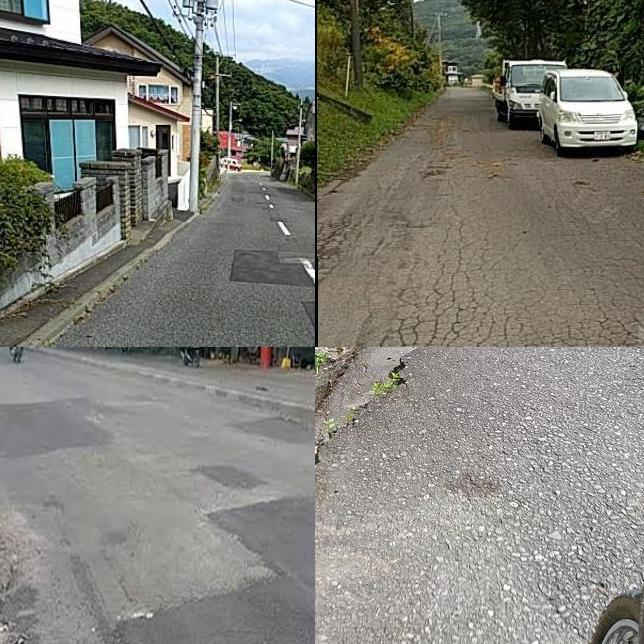Pinggir: (315, 347, 470, 537)
Sambungan: (0, 396, 125, 454), (232, 250, 315, 282)
